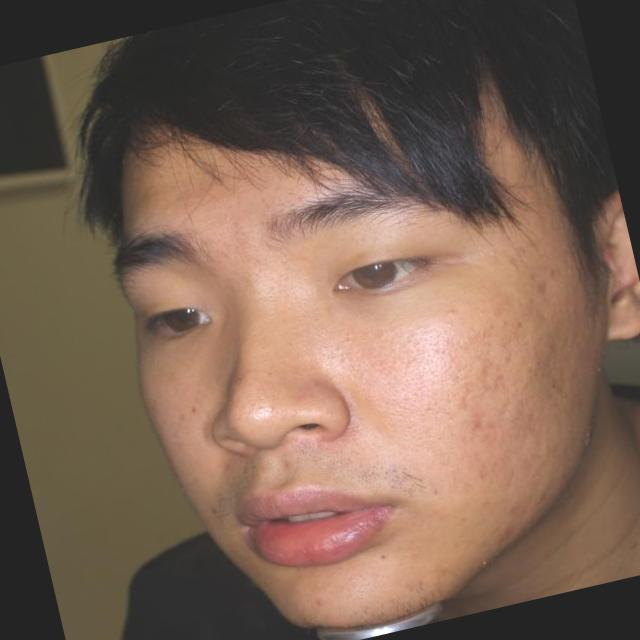acne: (524, 262, 558, 309), (466, 462, 502, 484), (472, 410, 498, 440)
